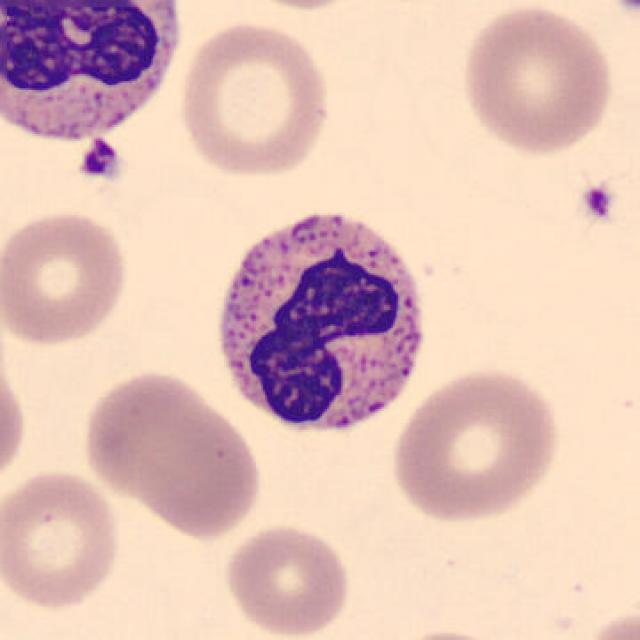Neutrophil: (205, 196, 438, 451), (0, 0, 194, 160)
Platelets: (76, 140, 125, 183), (576, 180, 619, 227), (604, 0, 640, 21)
RBC: (78, 365, 267, 539), (388, 363, 566, 527), (174, 16, 336, 180), (457, 2, 619, 158), (0, 206, 133, 350), (0, 465, 124, 613), (220, 520, 356, 638), (0, 342, 30, 499), (572, 603, 638, 640)
